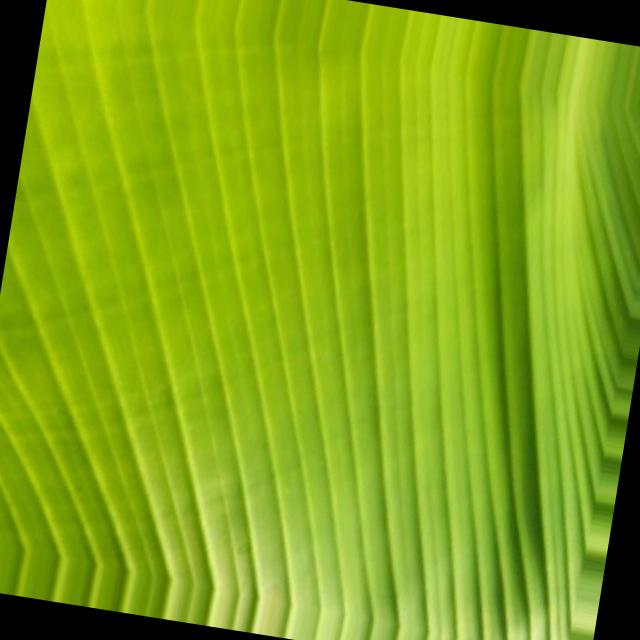Banana_Healthy: (104, 66, 514, 506)
